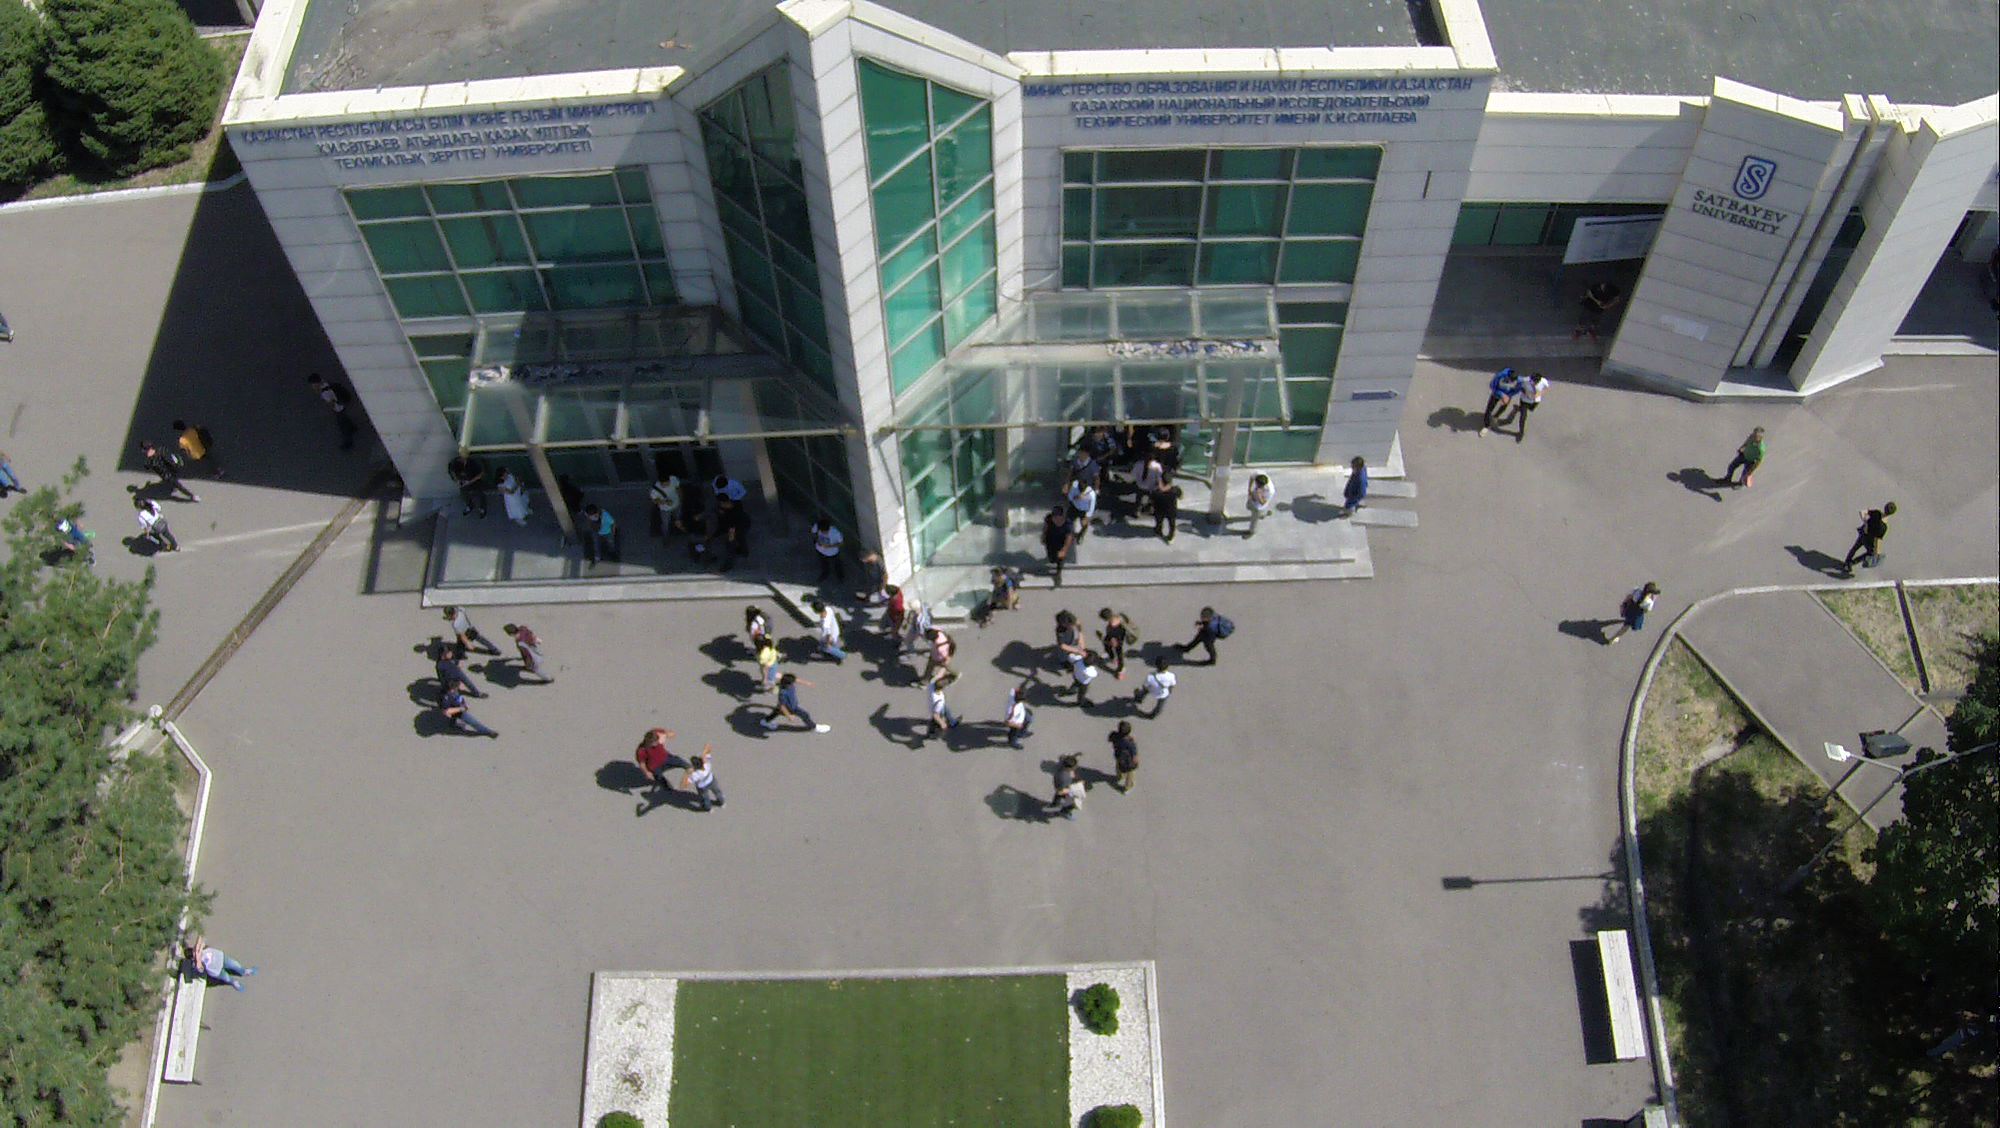person: (1840, 499, 1898, 578), (758, 673, 831, 733), (1604, 578, 1663, 652), (182, 935, 256, 993), (1177, 604, 1239, 673), (306, 369, 359, 450), (635, 725, 688, 797), (135, 442, 200, 500), (170, 419, 226, 483), (438, 681, 498, 741), (442, 601, 500, 662), (682, 741, 726, 817), (1036, 505, 1077, 590), (1572, 280, 1622, 347), (434, 644, 492, 703), (1094, 606, 1140, 677), (506, 621, 556, 686), (129, 494, 181, 555), (1131, 655, 1177, 721), (446, 445, 487, 519), (1049, 750, 1089, 826), (922, 677, 964, 744), (1239, 467, 1276, 544), (1481, 367, 1521, 438), (676, 500, 714, 572), (809, 517, 847, 586), (1722, 427, 1765, 490), (717, 497, 752, 575), (1107, 719, 1141, 797), (983, 563, 1024, 631), (809, 599, 847, 666), (497, 465, 535, 530), (923, 624, 962, 686), (1151, 470, 1181, 548), (652, 475, 686, 544), (1066, 480, 1097, 549), (1519, 370, 1549, 440), (583, 504, 617, 563), (1063, 651, 1099, 708), (881, 583, 906, 652), (1005, 688, 1034, 751), (748, 638, 785, 688), (1133, 453, 1160, 519), (1343, 456, 1369, 520), (906, 596, 933, 658), (856, 550, 887, 595), (1048, 609, 1084, 647), (1067, 443, 1101, 478), (739, 606, 772, 643), (713, 470, 748, 497)
